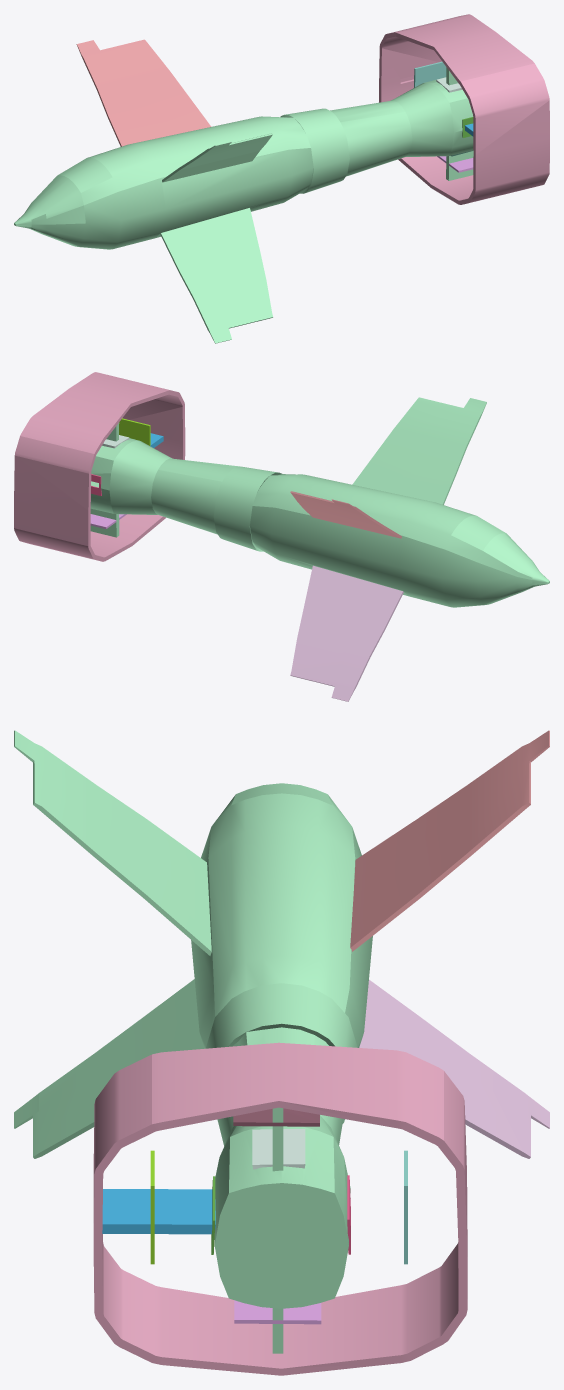
3 renders of one model, top to bottom at view 1: azimuth 30°, elevation 25°; view 2: azimuth 150°, elevation 25°; view 3: azimuth 270°, elevation 25°, orthographic. The views are drawn at different scales.
Visible parts, largest first — view 1: split_parent_11, split_parent_4, Object_4.078, Object_4.033; view 2: split_parent_11, split_parent_4, Object_4.080, Object_4.078, Object_4.035; view 3: split_parent_11, split_parent_4, Object_4.078, Object_4.080, Object_4.025, Object_4.004, Object_4.038, Object_4.036.
Boxes of the visible parts, box(x1,y1,x2,y2) form: split_parent_11: box(14, 67, 473, 343); split_parent_4: box(379, 14, 549, 204); Object_4.078: box(76, 39, 211, 146); Object_4.033: box(414, 61, 446, 87); split_parent_11: box(90, 397, 549, 607); split_parent_4: box(14, 372, 185, 561); Object_4.080: box(290, 565, 403, 701); Object_4.078: box(290, 491, 401, 538); Object_4.035: box(119, 418, 150, 445); split_parent_11: box(14, 730, 372, 1353); split_parent_4: box(93, 1042, 467, 1375); Object_4.078: box(350, 730, 549, 951); Object_4.080: box(359, 979, 549, 1158); Object_4.025: box(102, 1189, 215, 1234); Object_4.004: box(252, 1129, 305, 1169); Object_4.038: box(234, 1300, 321, 1324); Object_4.036: box(233, 1108, 319, 1126).
Bounding box in the file's own units: 1 × 0.3896 × 0.4939.
